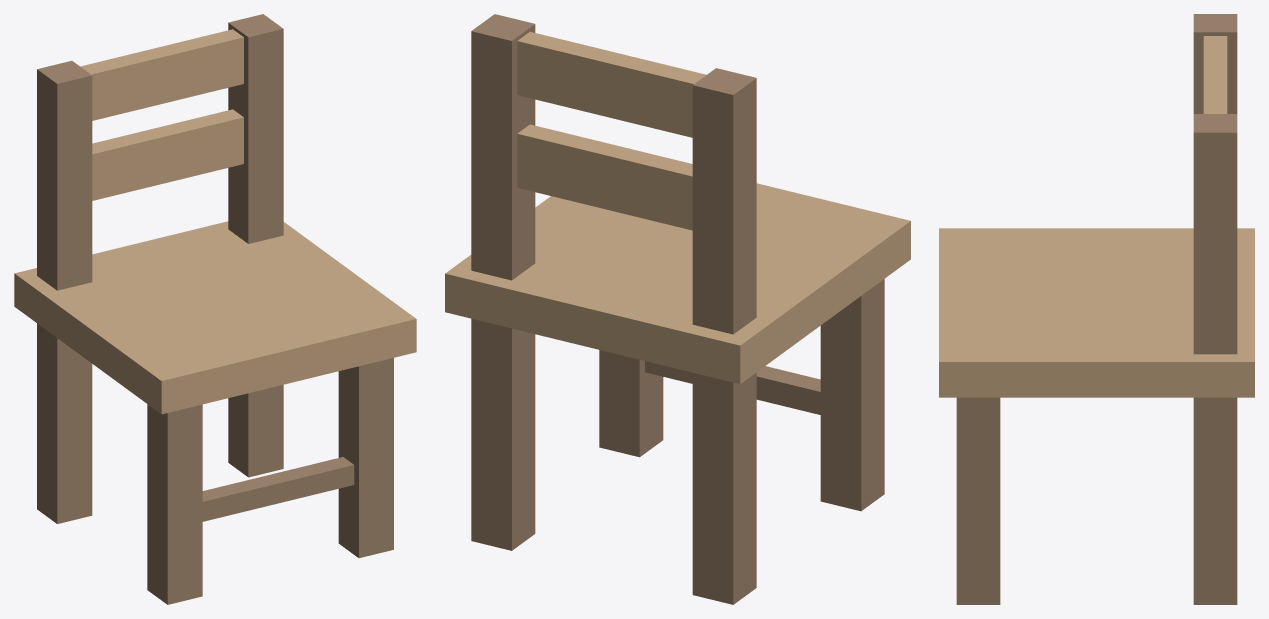
File: furniture_chair.glb
3 views of the same model, side by side, from view 1: azimuth 30°, elevation 25°; view 2: azimuth 150°, elevation 25°; view 3: azimuth 270°, elevation 25° (orthographic). The views are drawn at different scales.
Visible parts, largest first — view 1: wood, wood_dark; view 2: wood_dark, wood; view 3: wood, wood_dark.
Boxes of the visible parts, x1,y1,x2,y2 form: wood: (14,29,416,414); wood_dark: (37,14,393,604); wood_dark: (471,14,884,604); wood: (445,31,910,384); wood: (939,36,1254,397); wood_dark: (956,14,1237,604).
Bounding box in the file's own units: 0.4 × 0.66 × 0.4.
